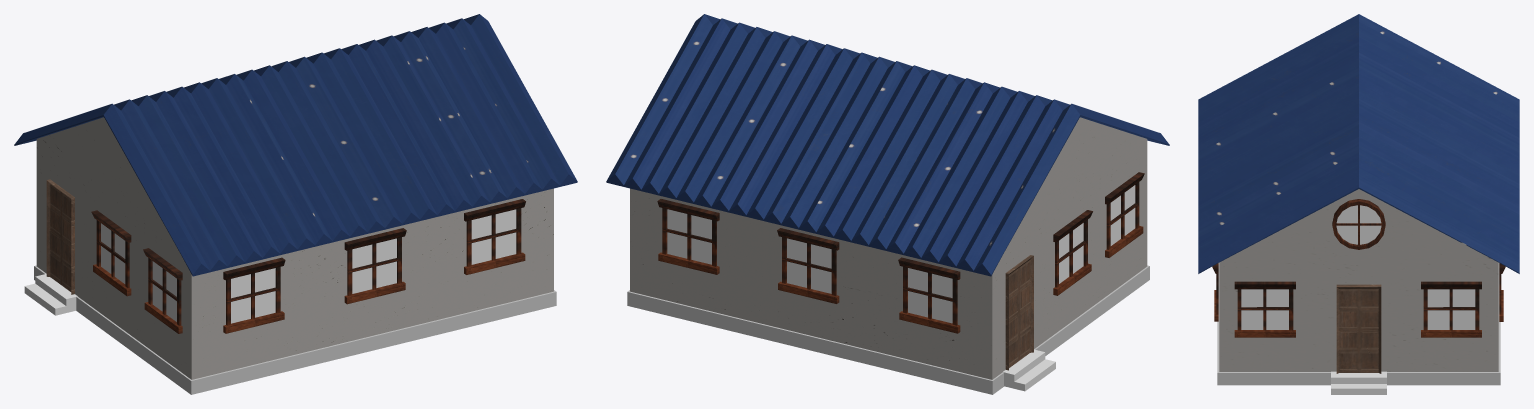
Rendered from House 1.fbx.
3 views of the same model, side by side, from view 1: azimuth 30°, elevation 25°; view 2: azimuth 150°, elevation 25°; view 3: azimuth 270°, elevation 25° (orthographic). The views are drawn at different scales.
Visible parts, largest first — view 1: House; view 2: House; view 3: House.
Part boxes in pixels (x1,y1,x2,y2): House: [14, 14, 577, 394]; House: [606, 14, 1169, 394]; House: [1198, 14, 1519, 394].
Size of the model in its own units: 623 by 340 by 471.
